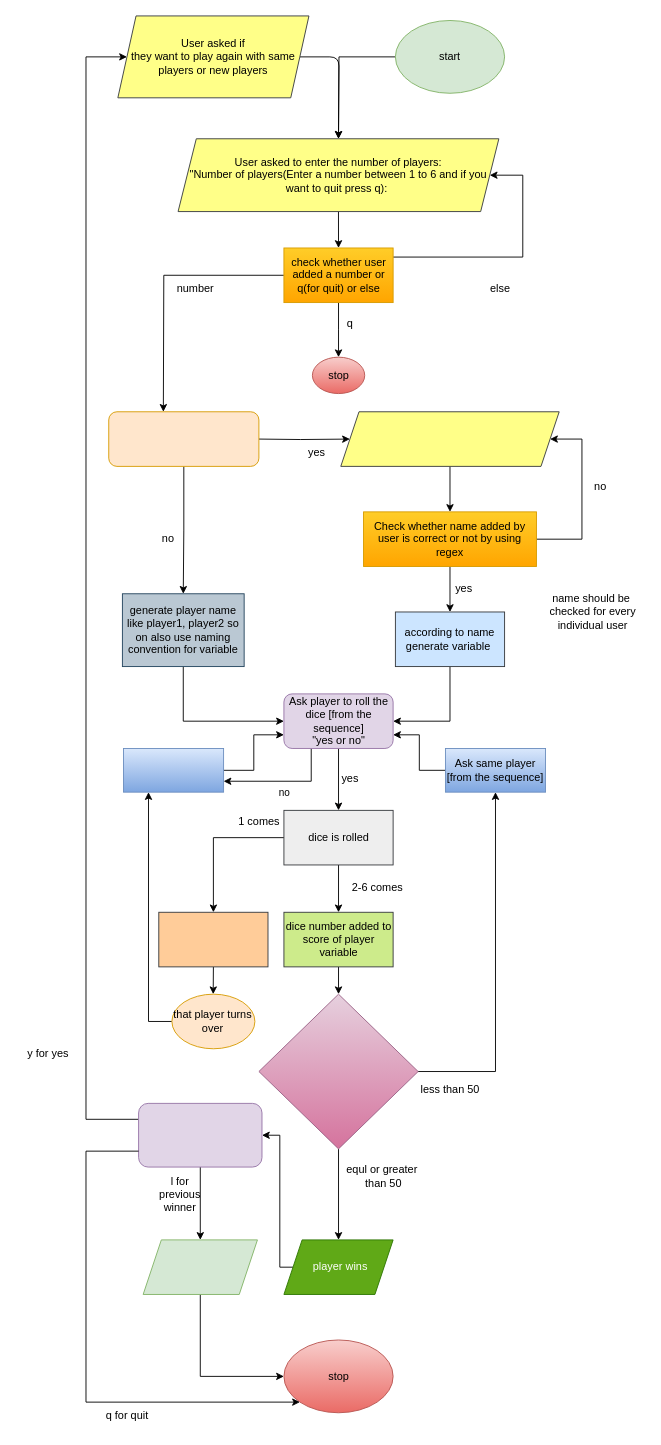
The diagram is 661 pixels wide and 1445 high, and some of its shapes have lost their labels. The shapes that lost their labels are listed below. From the top down, each one's box as (x1, y1, x2, y2) in pixels, then its label:
(108, 411, 259, 466): User asked if they want to add there name or not(y for yes and n for no):
(340, 411, 559, 466): User asked to add name(sequentially (player1, player2 then so on)) use regex
(123, 748, 224, 792): Ask another player [from the sequence]
(158, 911, 268, 967): player variable becomes zero
(258, 993, 418, 1149): player variable is equal or greater to 50
(138, 1102, 262, 1167): Ask if player want to play again or see previous winners or quit
(142, 1239, 257, 1294): show previous winner
